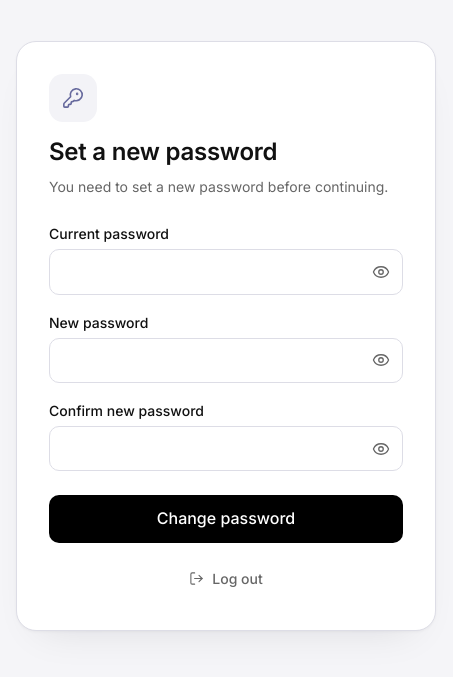
Test case: ChangePasswordPage › renders server-side field errors for current_password and new_password
Type "StartingPassw0rd!" into the password field labelled "Current password" at [226, 272], box [49,249,403,295]
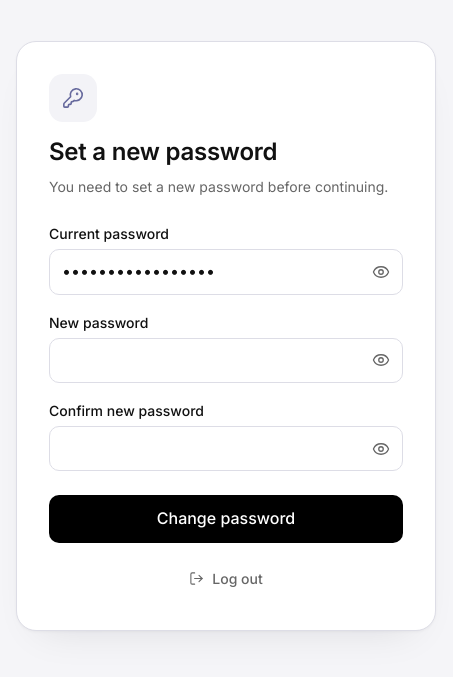
Type "BrandNewPassw0rd!" into the password field labelled "New password" at [226, 360], box [49,338,403,383]
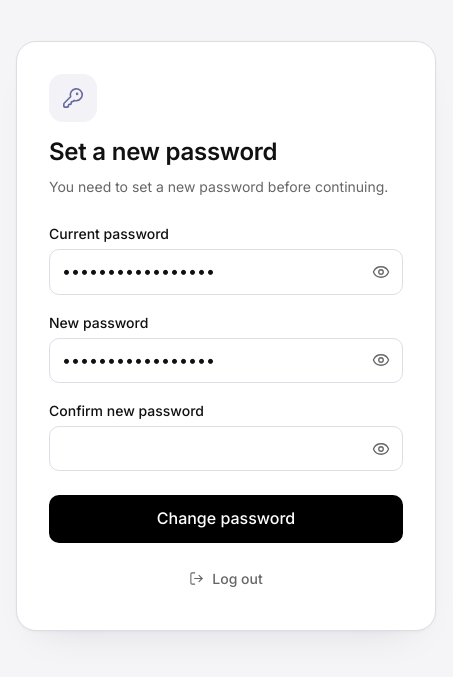
Type "BrandNewPassw0rd!" into the password field labelled "Confirm new password" at [226, 449], box [49,426,403,471]
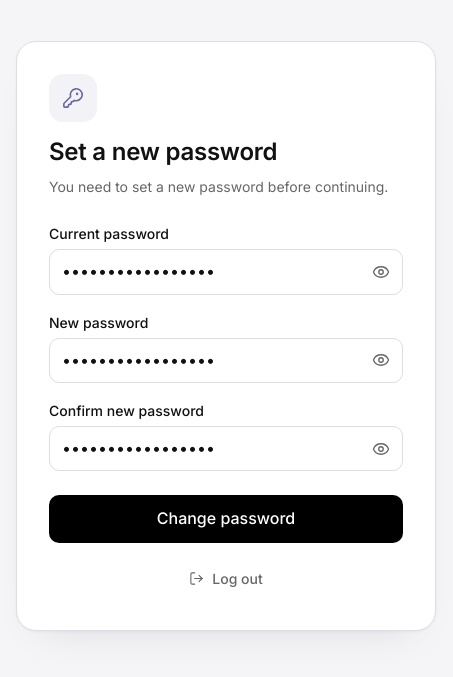
Click the button "Change password" at [226, 519], box [49,495,403,543]
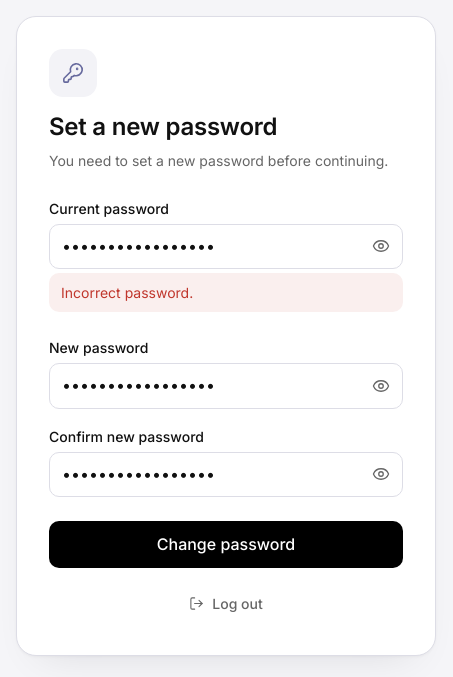
Check: the list item "Incorrect password." is shown, box [61,284,193,301]
